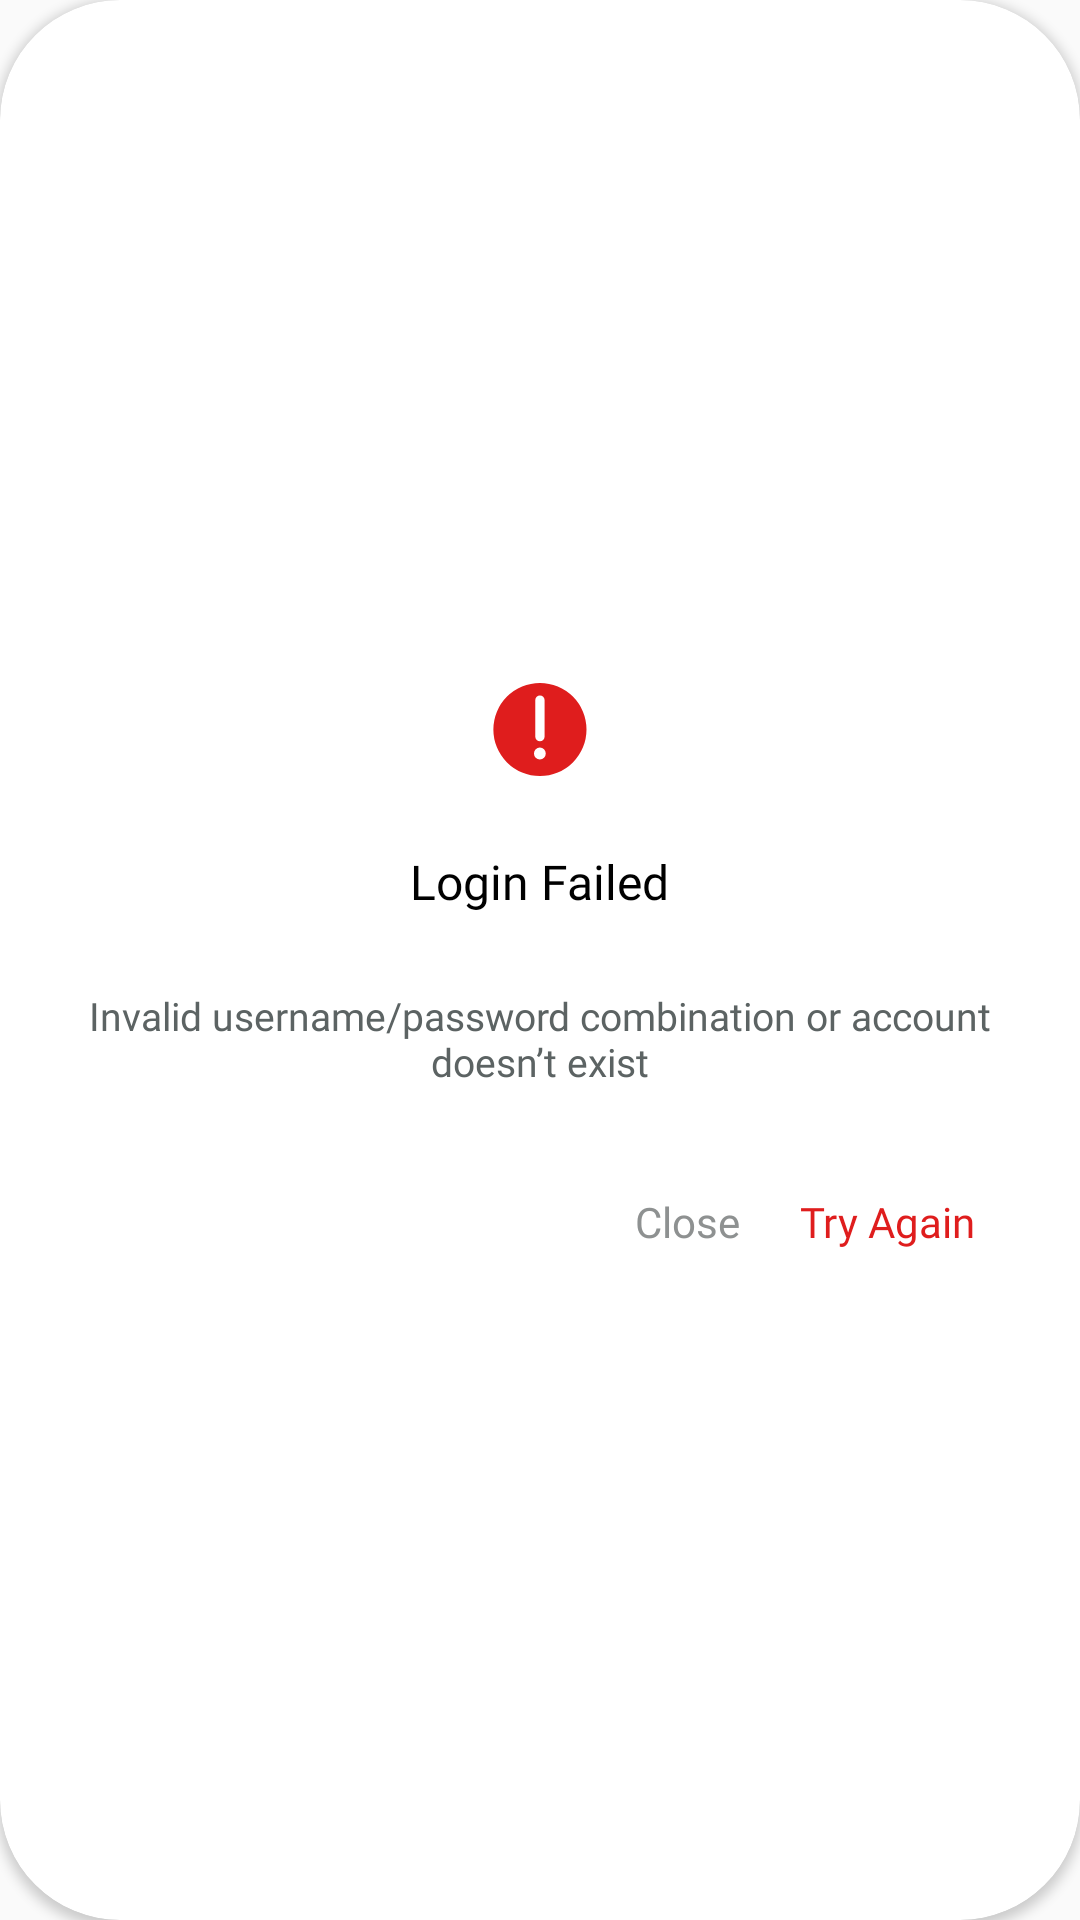

Named icons in this screenshot (1080x1920) and their bounding boxes, (x1, y1, x2, y2):
mark: (493, 683, 587, 776)
